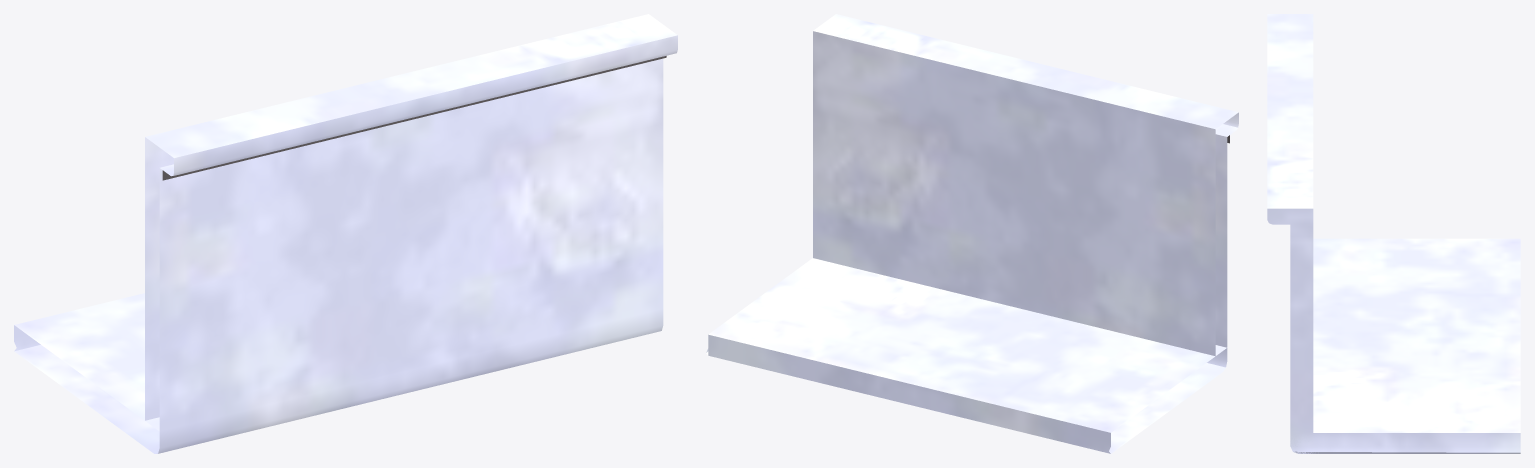
The model's file is 05ef4cb7-980c-4e22-ac09-687adad4ef2c.glb.
The picture shows the model from 3 angles, left to right: view 1: azimuth 30°, elevation 25°; view 2: azimuth 150°, elevation 25°; view 3: azimuth 270°, elevation 25°; orthographic projection. The views are drawn at different scales.
Parts seen in each view (by area): view 1: RoofEdge.003; view 2: RoofEdge.003; view 3: RoofEdge.003.
Part boxes in pixels (left/top/right/bottom): RoofEdge.003: left=14, top=14, right=677, bottom=453; RoofEdge.003: left=706, top=14, right=1238, bottom=453; RoofEdge.003: left=1267, top=14, right=1520, bottom=453.
Size of what is drawn, in the model's own units: 2.01 by 1.18 by 1.1.
Materials: 1 (1 with a texture image).
